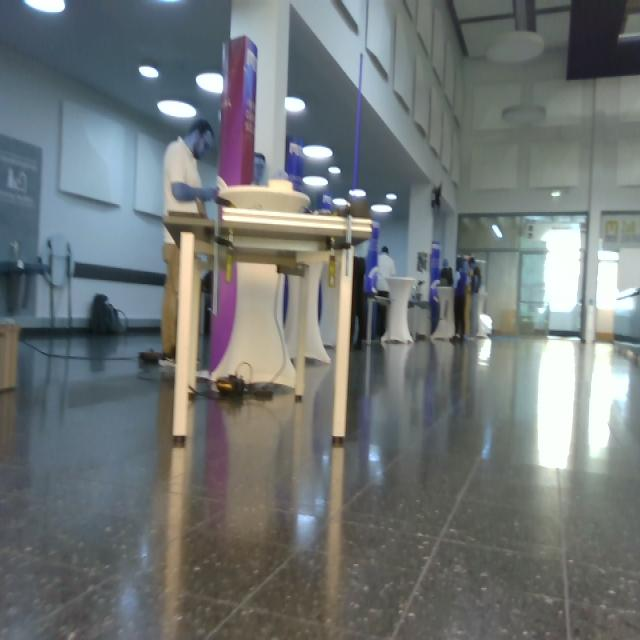door: (457, 212, 588, 341)
light bulb: (486, 30, 545, 64), (157, 100, 197, 120), (196, 72, 224, 94), (24, 1, 66, 14), (303, 145, 333, 160), (285, 96, 306, 113), (303, 176, 329, 188), (139, 65, 159, 78), (371, 204, 393, 213), (333, 197, 350, 208), (349, 189, 367, 198), (492, 224, 503, 238), (329, 167, 342, 175), (386, 193, 398, 201), (157, 1, 182, 4)
table: (162, 185, 379, 449)
tiled floor: (2, 327, 639, 639)
